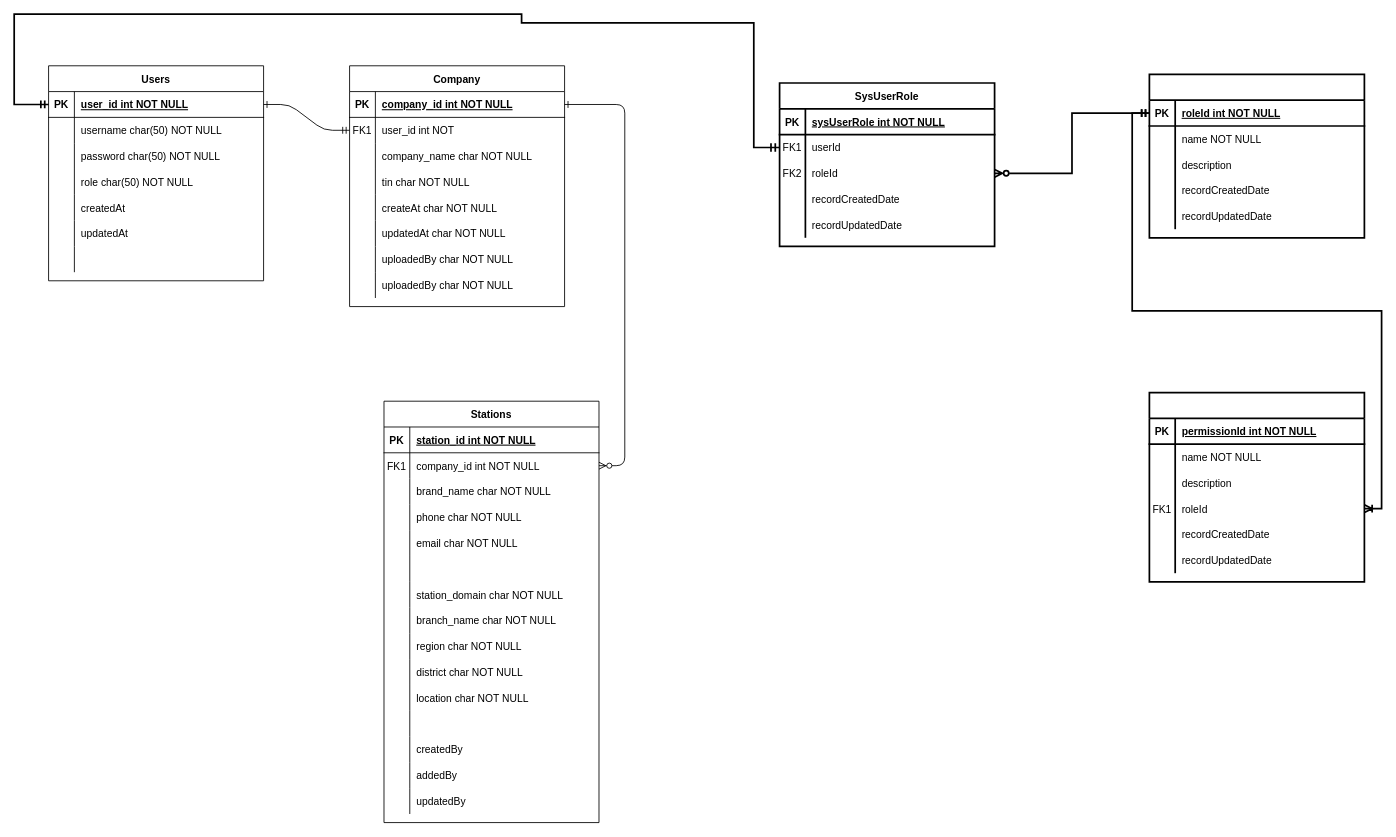
The diagram is 1396 pixels wide and 837 high, and some of its shapes have lost their labels. Here are the shapes that lost their labels. From the top down, the box of each, then its label:
(1148, 73, 1365, 238): SysRoles
(1148, 391, 1365, 582): SysPermissions
